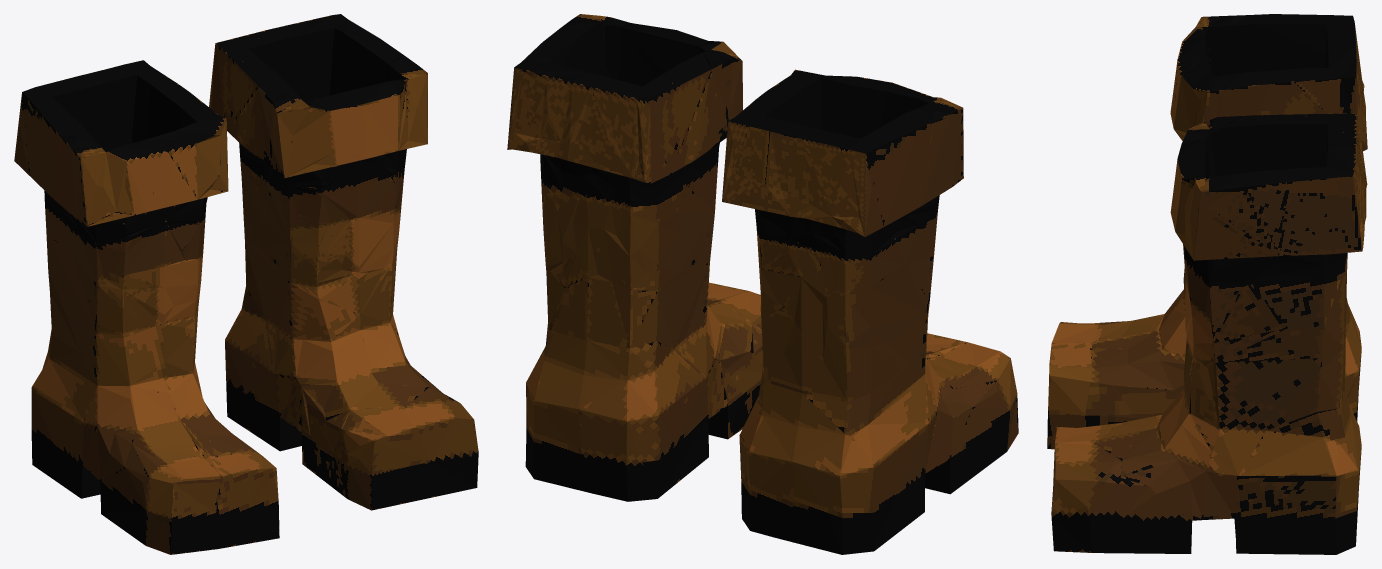
3 views of the same model, side by side, from view 1: azimuth 30°, elevation 25°; view 2: azimuth 150°, elevation 25°; view 3: azimuth 270°, elevation 25° (orthographic). The views are drawn at different scales.
Visible parts, largest first — view 1: OBJ029; view 2: OBJ029; view 3: OBJ029.
Part boxes in pixels (x1,y1,x2,y2): OBJ029: (14,14,478,554); OBJ029: (507,14,1018,554); OBJ029: (1047,14,1367,554).
Size of the model in its own units: 0.2435 by 0.2464 by 0.188.
1 material, 1 textured.
